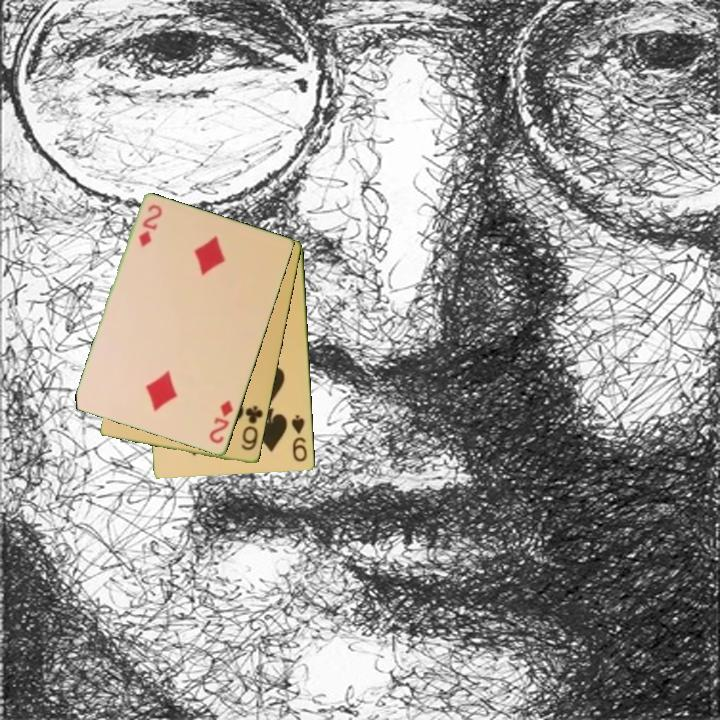2d: (206, 396, 236, 447), (135, 201, 164, 251)
6c: (238, 402, 266, 454)
9s: (288, 411, 310, 465)
